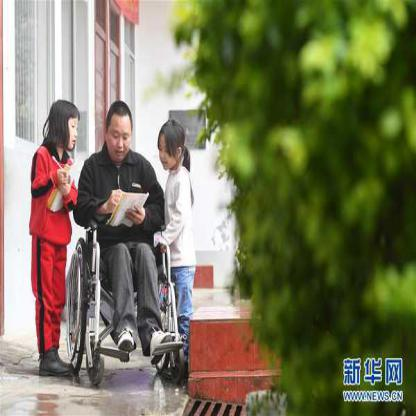wheelchair: (67, 98, 180, 377)
